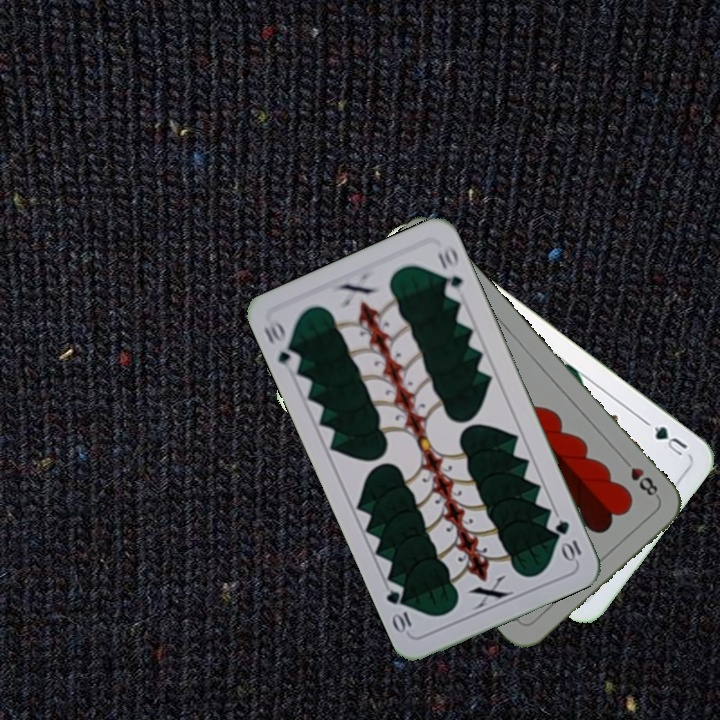G10: (259, 317, 304, 374), (551, 516, 584, 564)
GU: (648, 422, 690, 459)
H8: (617, 453, 662, 501)
